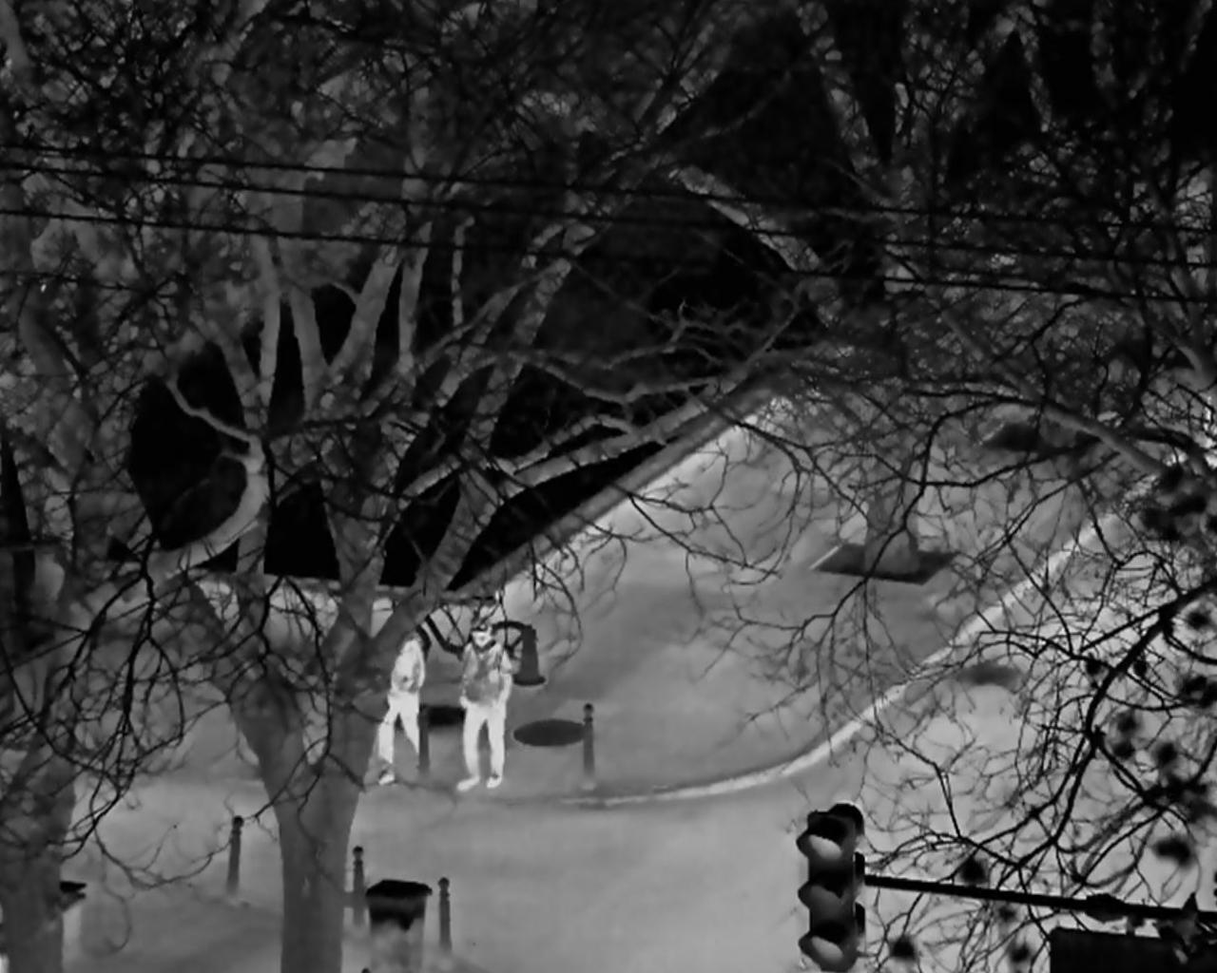person: (454, 620, 513, 794), (377, 637, 424, 787)
